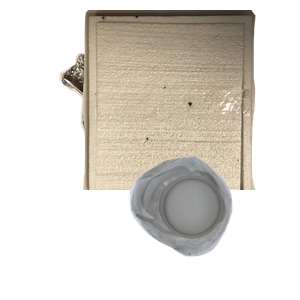glass: (115, 120, 300, 300)
metal: (57, 36, 241, 216)
plastic: (127, 154, 300, 300)
trash: (80, 10, 300, 190)
